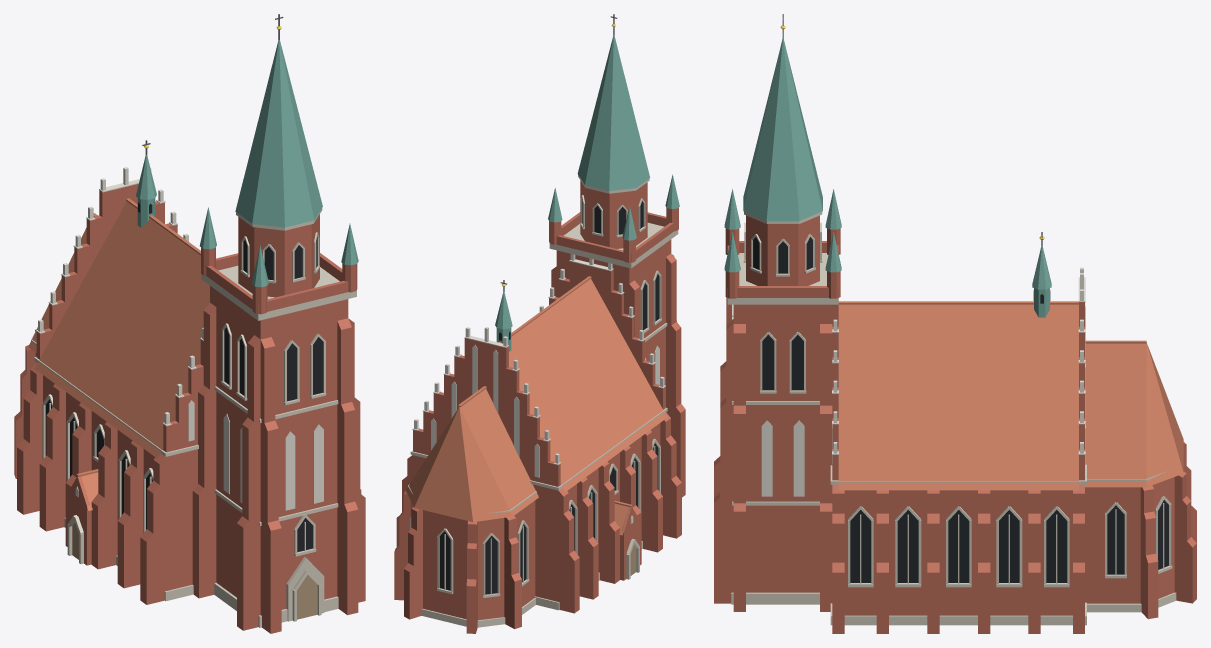
File: church_gothic.glb
3 renders of one model, left to right at view 1: azimuth 30°, elevation 25°; view 2: azimuth 150°, elevation 25°; view 3: azimuth 270°, elevation 25°, orthographic. The views are drawn at different scales.
Parts seen in each view (by area): view 1: ChurchGothic; view 2: ChurchGothic; view 3: ChurchGothic.
Boxes of the visible parts, box(x1,y1,x2,y2) form: ChurchGothic: box(14, 14, 365, 633); ChurchGothic: box(394, 14, 685, 633); ChurchGothic: box(714, 14, 1196, 633).
Size of the model in its own units: 20.3 by 50.9 by 39.16.
